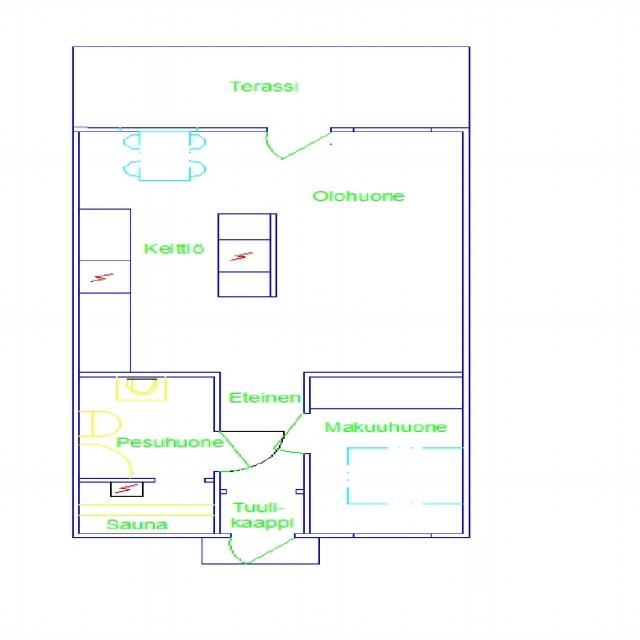door: (266, 127, 332, 172), (231, 532, 294, 576), (240, 413, 309, 452), (214, 432, 282, 471)
